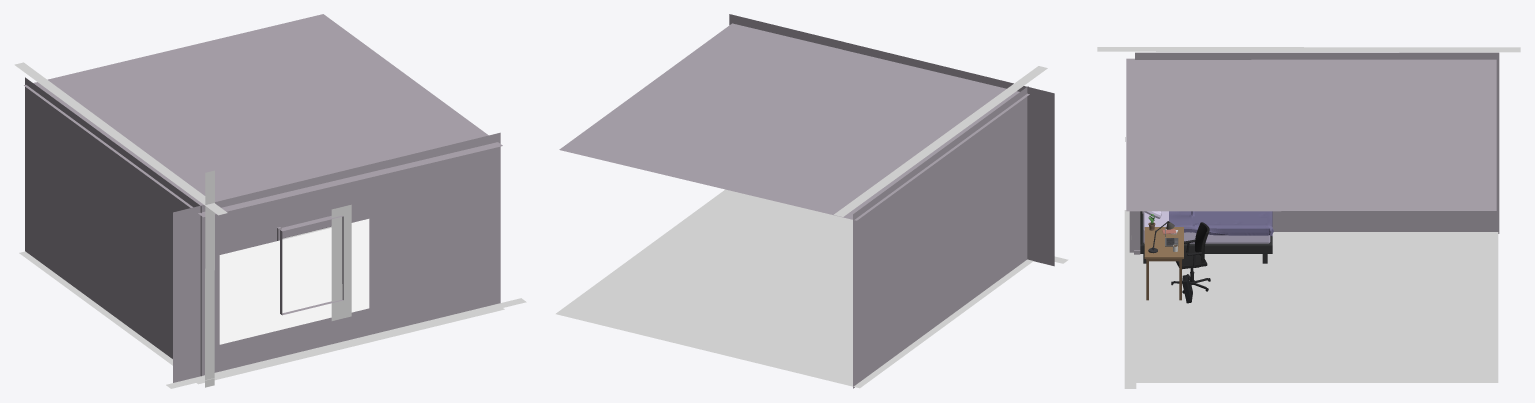
File: room_corner.glb
3 views of the same model, side by side, from view 1: azimuth 30°, elevation 25°; view 2: azimuth 150°, elevation 25°; view 3: azimuth 270°, elevation 25° (orthographic). The views are drawn at different scales.
Visible parts, largest first — view 1: Room, WindowView, Плоскость4, Плоскость, Плоскость3, Плоскость2, WindowFrame; view 2: Room, Плоскость2; view 3: Room, Bed, Плоскость2, Плоскость, Table, Chair.
Part boxes in pixels (bbox=[...]): Room: bbox=[19, 14, 504, 384]; WindowView: bbox=[219, 219, 369, 344]; Плоскость4: bbox=[331, 204, 351, 320]; Плоскость: bbox=[166, 298, 526, 388]; Плоскость3: bbox=[205, 170, 214, 387]; Плоскость2: bbox=[14, 62, 227, 215]; WindowFrame: bbox=[277, 219, 331, 240]; Room: bbox=[556, 14, 1054, 388]; Плоскость2: bbox=[834, 66, 1047, 216]; Room: bbox=[1126, 52, 1499, 382]; Bed: bbox=[1140, 211, 1273, 263]; Плоскость2: bbox=[1097, 47, 1520, 52]; Плоскость: bbox=[1124, 210, 1136, 388]; Table: bbox=[1144, 227, 1183, 300]; Chair: bbox=[1171, 222, 1210, 293].
Bounding box in the file's own units: 6.67 × 3.84 × 6.67.
